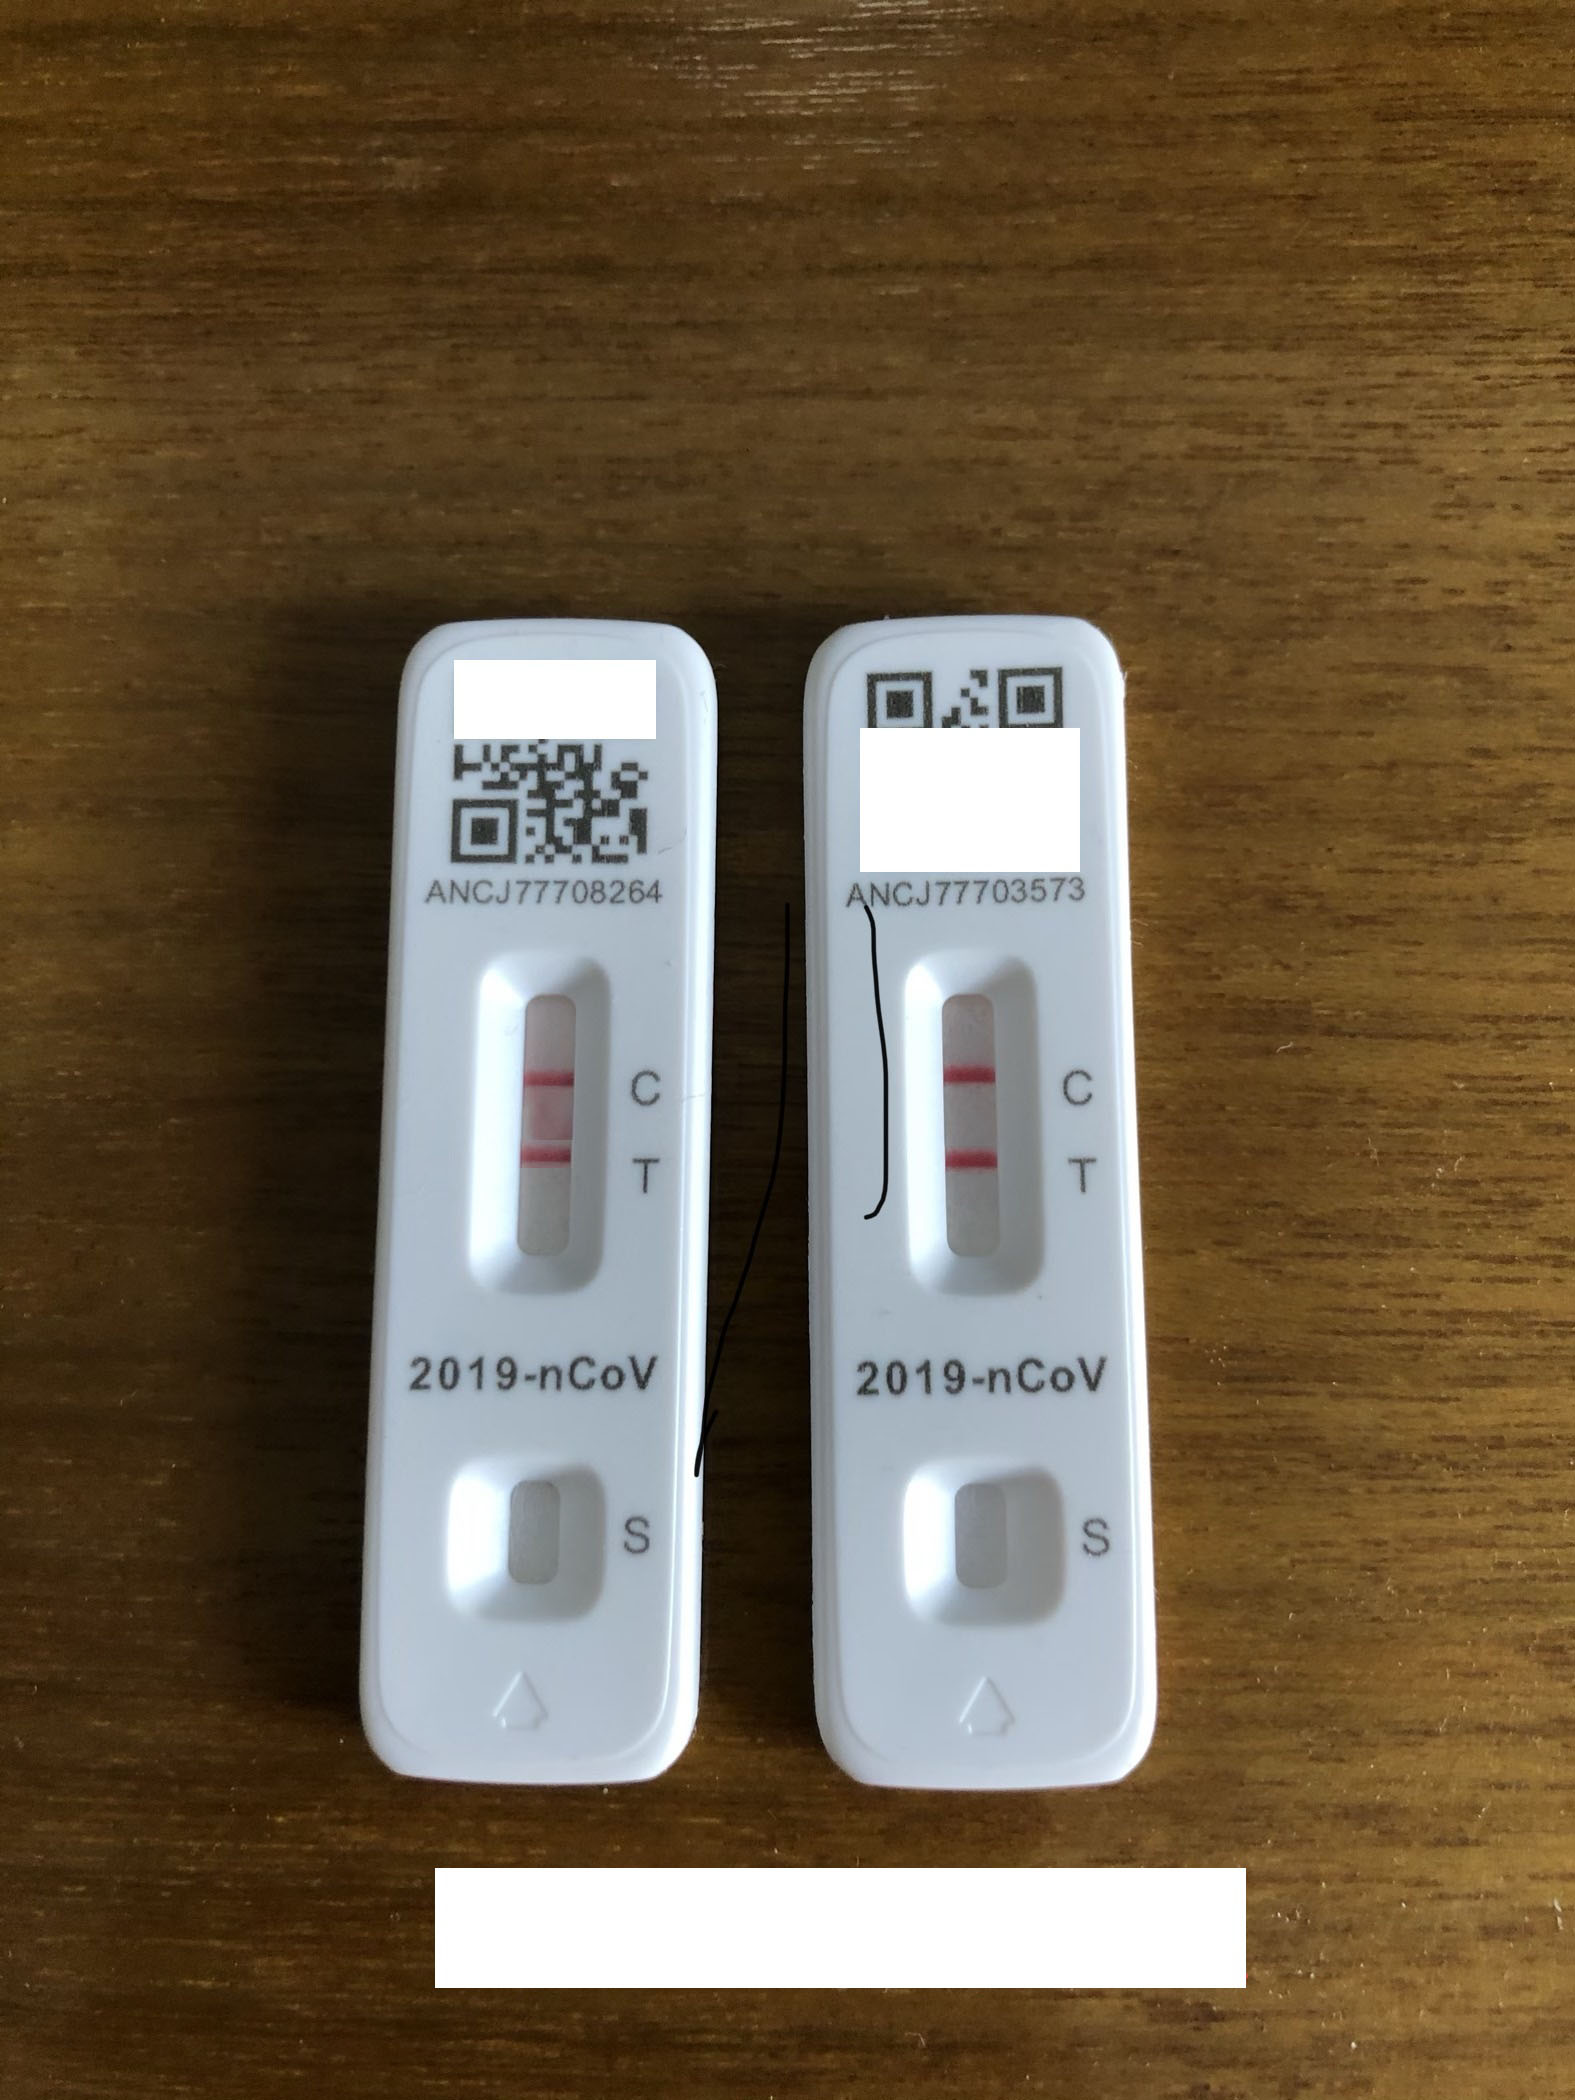positive: (897, 951, 1051, 1290), (495, 956, 597, 1290)
